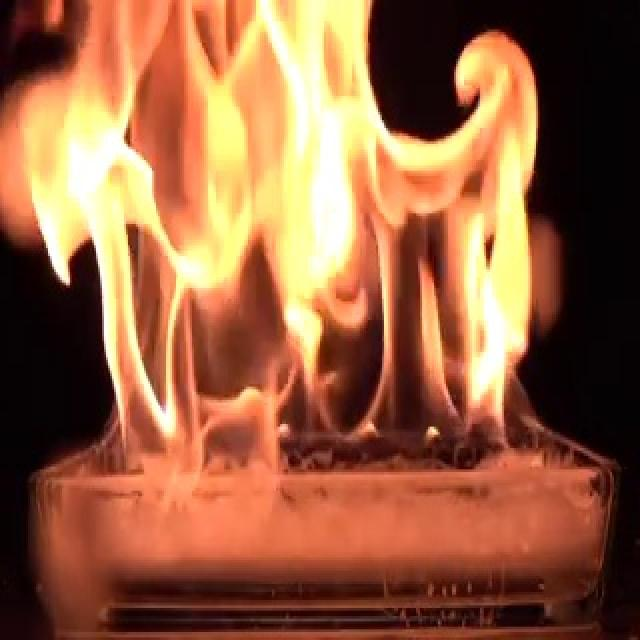fire: (0, 0, 542, 512)
